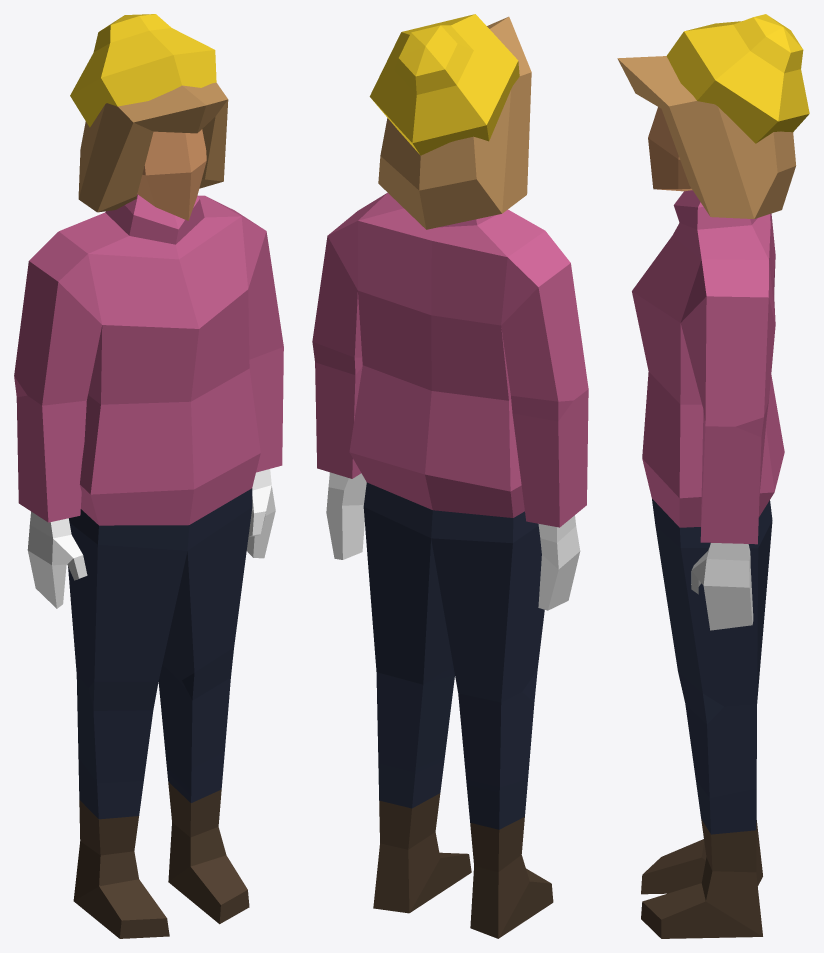
File: people_woman-winter.fbx
The picture shows the model from 3 angles, left to right: view 1: azimuth 30°, elevation 25°; view 2: azimuth 150°, elevation 25°; view 3: azimuth 270°, elevation 25°; orthographic projection. The views are drawn at different scales.
Visible parts, largest first — view 1: people_woman_winter; view 2: people_woman_winter; view 3: people_woman_winter.
Part boxes in pixels (x1,y1,x2,y2): people_woman_winter: [14, 14, 283, 938]; people_woman_winter: [312, 14, 588, 938]; people_woman_winter: [617, 14, 809, 938].
Bounding box in the file's own units: 57.9 × 200 × 39.23.
